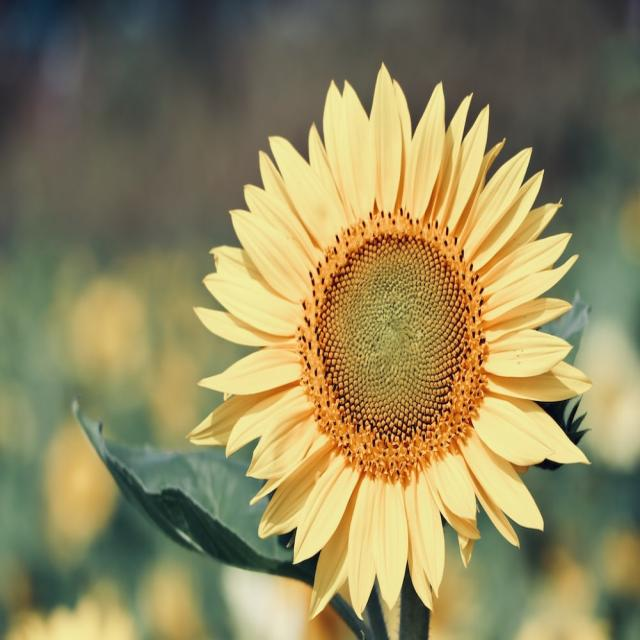sunflower: (176, 62, 602, 640)
